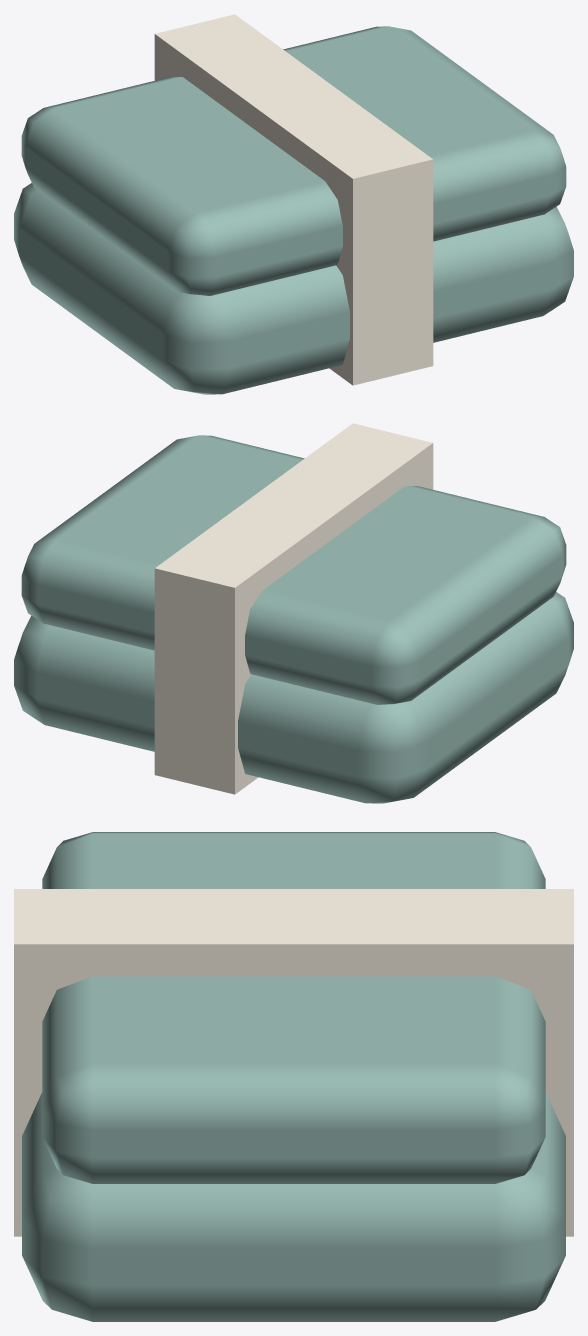
The model's file is product-off.towel.glb.
3 views of the same model, one above another, from view 1: azimuth 30°, elevation 25°; view 2: azimuth 150°, elevation 25°; view 3: azimuth 270°, elevation 25° (orthographic). The views are drawn at different scales.
Parts seen in each view (by area): view 1: product-off.towel; view 2: product-off.towel; view 3: product-off.towel.
Boxes of the visible parts, box(x1,y1,x2,y2) form: product-off.towel: box(14, 14, 573, 394); product-off.towel: box(14, 423, 573, 803); product-off.towel: box(14, 832, 573, 1321).
Bounding box in the file's own units: 0.33 × 0.16 × 0.278.
